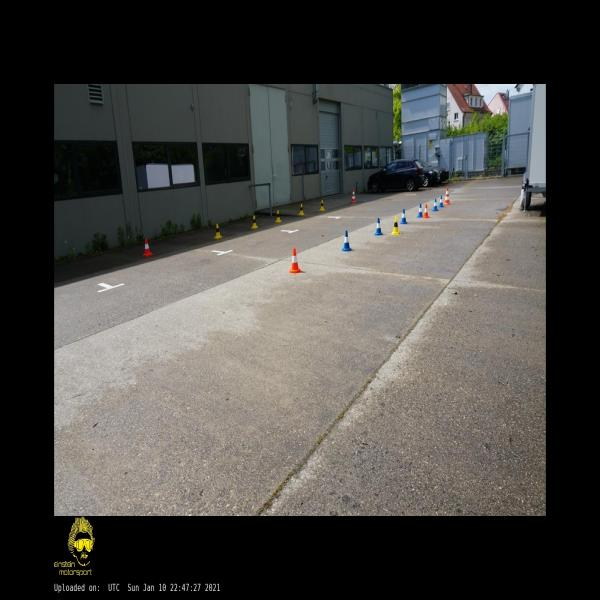blue_cone: (341, 230, 351, 252), (374, 219, 382, 236), (416, 204, 423, 218), (401, 209, 407, 224), (438, 195, 444, 208), (432, 199, 438, 211)
large_orange_cone: (444, 186, 450, 205), (350, 188, 357, 204)
orange_cone: (289, 248, 301, 274), (142, 238, 153, 256), (423, 204, 429, 218)
yellow_cone: (390, 216, 400, 235), (214, 223, 222, 239), (250, 214, 258, 228), (275, 209, 282, 222), (298, 204, 304, 216), (319, 200, 325, 210)
